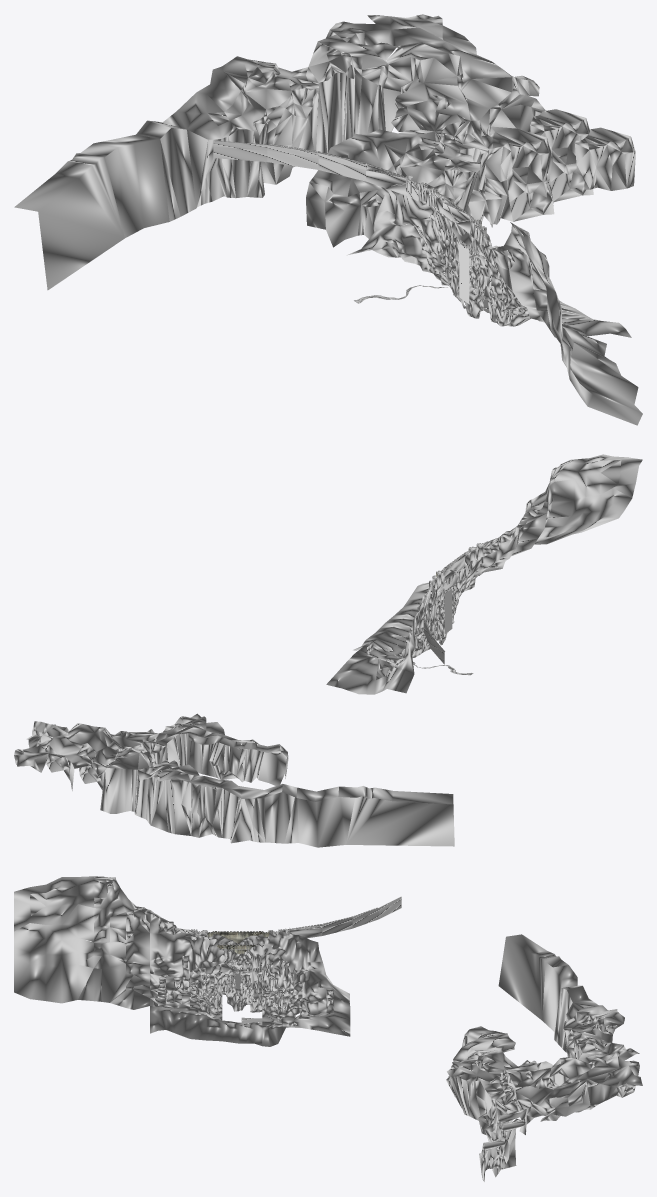
The picture shows the model from 3 angles, top to bottom: view 1: azimuth 30°, elevation 25°; view 2: azimuth 150°, elevation 25°; view 3: azimuth 270°, elevation 25°; orthographic projection. The views are drawn at different scales.
Visible parts, largest first — view 1: mesh6, mesh0, mesh3; view 2: mesh6, mesh0; view 3: mesh6, mesh0, mesh1.
Part boxes in pixels (box(x1,y1,x2,y2)): mesh6: box(14, 14, 642, 425); mesh0: box(213, 140, 491, 260); mesh3: box(459, 243, 469, 304); mesh6: box(14, 454, 642, 847); mesh0: box(423, 537, 498, 664); mesh6: box(14, 876, 642, 1181); mesh0: box(178, 896, 401, 956); mesh1: box(207, 931, 269, 953).
Size of the model in its own units: 1091 by 523 by 1572.
